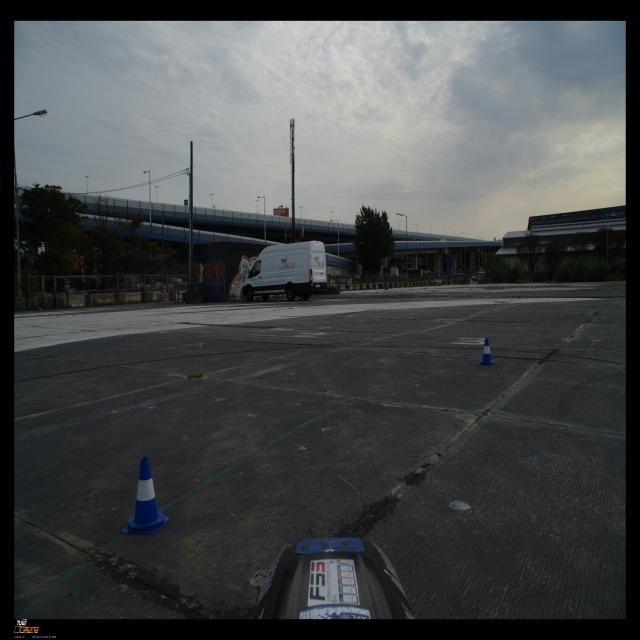blue_cone: (121, 456, 170, 535), (479, 338, 495, 365)
